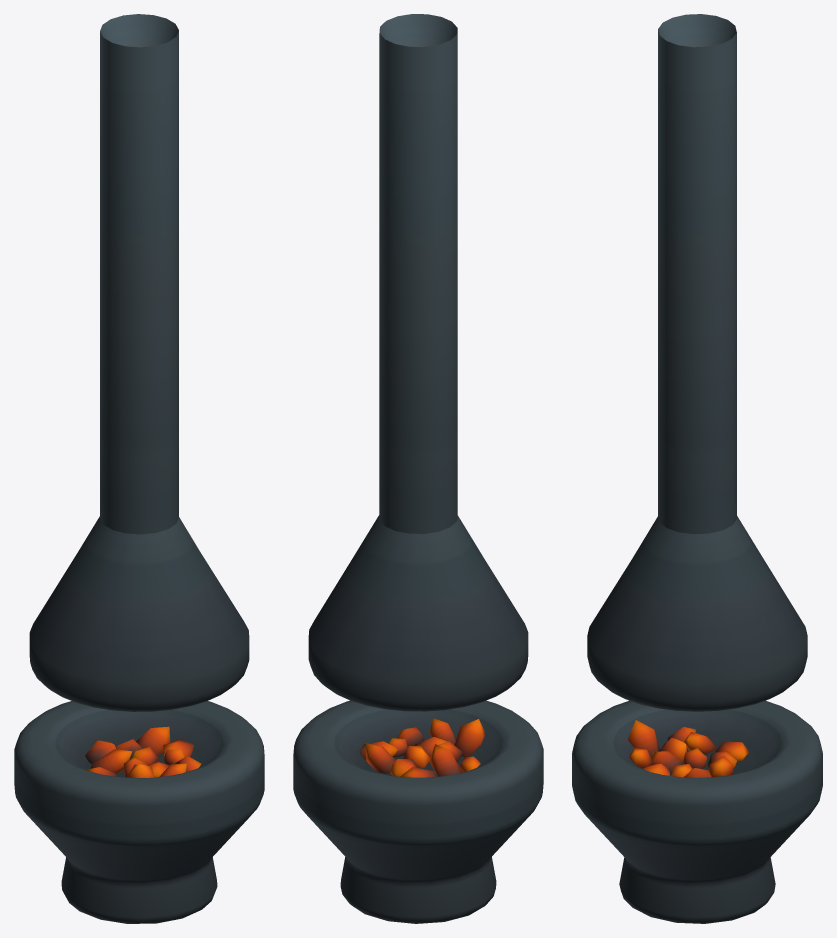
The model's file is Fireplace_08.glb.
The picture shows the model from 3 angles, left to right: view 1: azimuth 30°, elevation 25°; view 2: azimuth 150°, elevation 25°; view 3: azimuth 270°, elevation 25°; orthographic projection.
Parts seen in each view (by area): view 1: Fireplace_08; view 2: Fireplace_08; view 3: Fireplace_08.
Boxes of the visible parts, x1,y1,x2,y2 form: Fireplace_08: [14, 14, 264, 923]; Fireplace_08: [293, 14, 543, 923]; Fireplace_08: [572, 14, 822, 923].
Bounding box in the file's own units: 0.66 × 2.51 × 0.66.
1 material, 1 textured.
